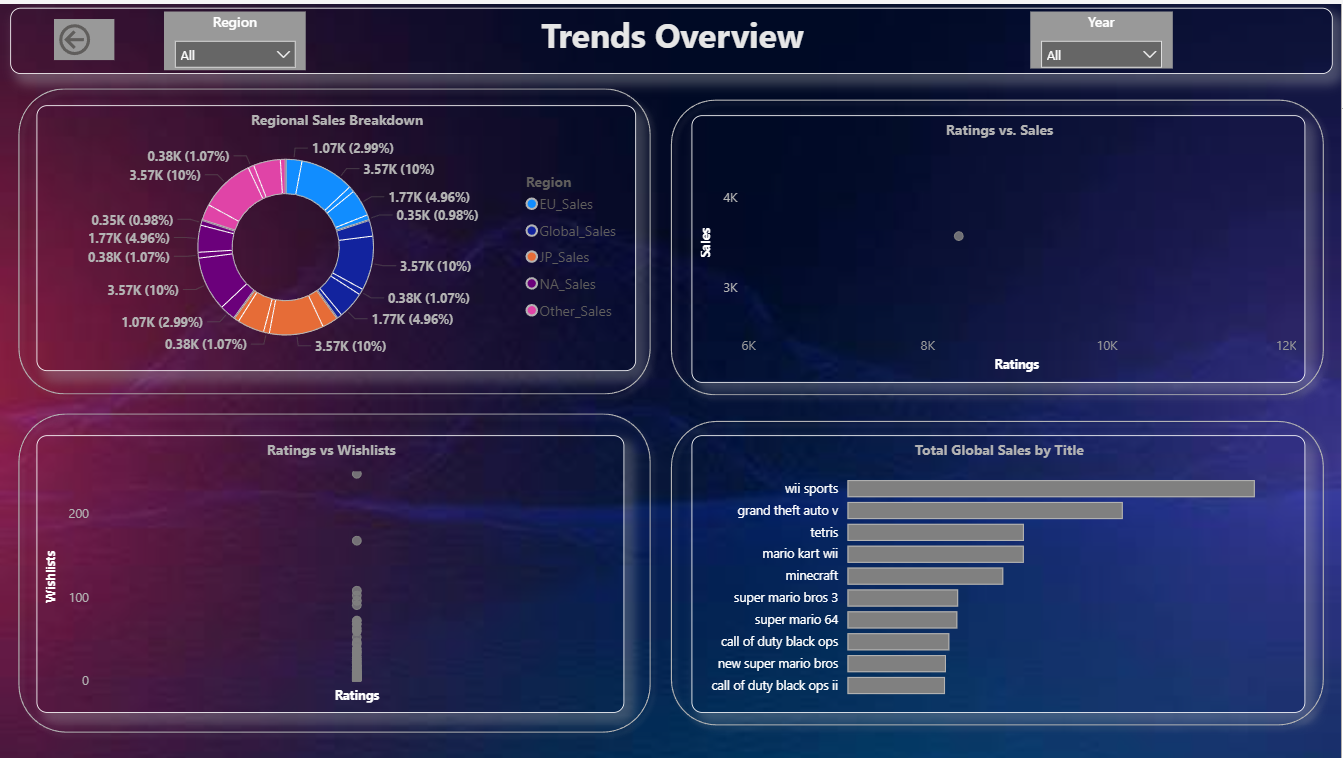

The page's visual inventory and layout, read from the dashboard file:
{"tool":"powerbi","page":{"name":"Page 2","canvas":[1280,720],"ordinal":1},"visuals":[{"type":"textbox","title":"Trends Overview","box":[11,4.1,1261.6,63],"z":0},{"type":"slicer","title":"Year","fields":{"Values":["merged_video_game_data.Year"]},"box":[983.6,6.8,135.6,54.8],"z":1000},{"type":"slicer","title":"Region","fields":{"Values":["Table.Region"]},"box":[158,7,135.5,56],"z":2000},{"type":"shape","box":[9.9,71.8,621.1,309.9],"z":3000},{"type":"shape","box":[632.4,81.7,640.8,300],"z":4000},{"type":"actionButton","box":[52.1,14.1,57.7,39.4],"z":5000},{"type":"donutChart","title":"Regional Sales Breakdown","fields":{"Category":["Table.Region"],"Y":["merged_video_game_data.EU Sales 1","merged_video_game_data.Total Global Sales","merged_video_game_data.JP Sales 1","merged_video_game_data.NA Sales 1","merged_video_game_data.Other Sales"]},"box":[35.2,97.2,571.8,253.5],"z":6000},{"type":"scatterChart","title":"Ratings vs. Sales","fields":{"X":["Sum(merged_video_game_data.Rating)"],"Y":["merged_video_game_data.Total Global Sales"]},"box":[660.6,105.6,585.9,254.9],"z":7000},{"type":"shape","box":[9.9,381.7,621.1,322.5],"z":8000},{"type":"scatterChart","title":"Ratings vs Wishlists","fields":{"Y":["merged_video_game_data.Total Global Sales"],"Category":["merged_video_game_data.Wishlist"]},"box":[35.2,411.3,560.6,264.8],"z":9000},{"type":"shape","box":[632.4,388.7,640.8,308.5],"z":10000},{"type":"clusteredBarChart","fields":{"Category":["merged_video_game_data.Title"],"Y":["merged_video_game_data.Total Global Sales"]},"box":[660.6,411.3,585.9,264.8],"z":11000}]}

Visuals, with their boxes in screenshot pixels (x1, y1, x2, y2), scaled from the page's 1280x720 canvas onto the 1343x758 screenshot:
"Trends Overview" textbox: 12 4 1335 71
"Year" slicer: 1032 7 1174 65
"Region" slicer: 166 7 308 66
shape: 10 76 662 402
shape: 664 86 1336 402
actionButton: 55 15 115 56
"Regional Sales Breakdown" donutChart: 37 102 637 369
"Ratings vs. Sales" scatterChart: 693 111 1308 380
shape: 10 402 662 741
"Ratings vs Wishlists" scatterChart: 37 433 625 712
shape: 664 409 1336 734
clusteredBarChart - merged_video_game_data.Title x merged_video_game_data.Total Global Sales: 693 433 1308 712
